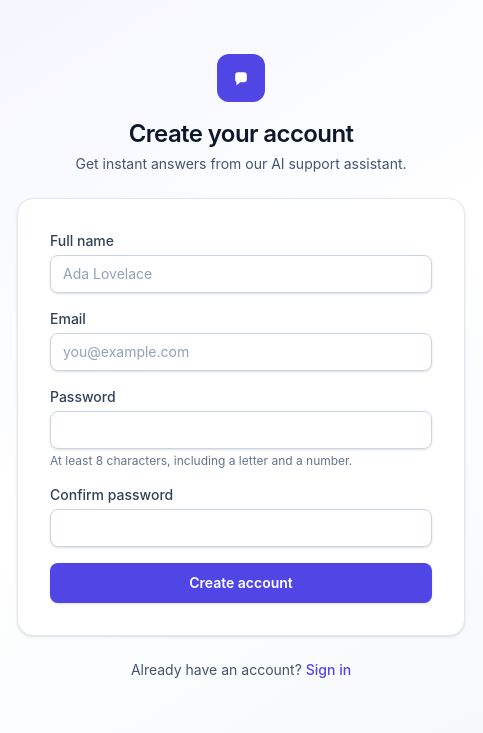
Test: Signup page › validates fields including password confirmation
In the field labelled "Full name": {"x": 241, "y": 274} [50,255,432,293], type "A"
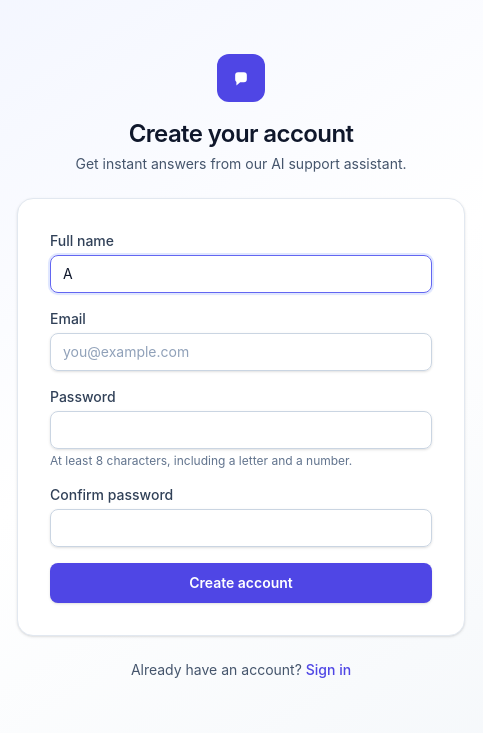
In the field labelled "Email": {"x": 241, "y": 352} [50,333,432,371], type "bad"
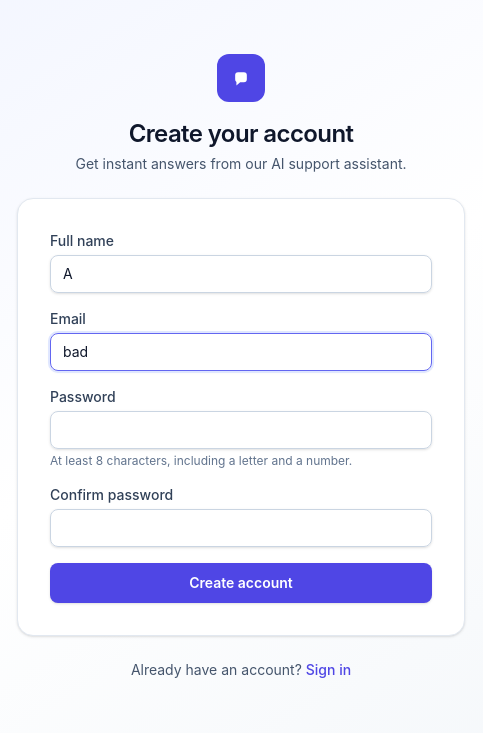
In the password field labelled "Password": {"x": 241, "y": 430} [50,411,432,449], type "short"
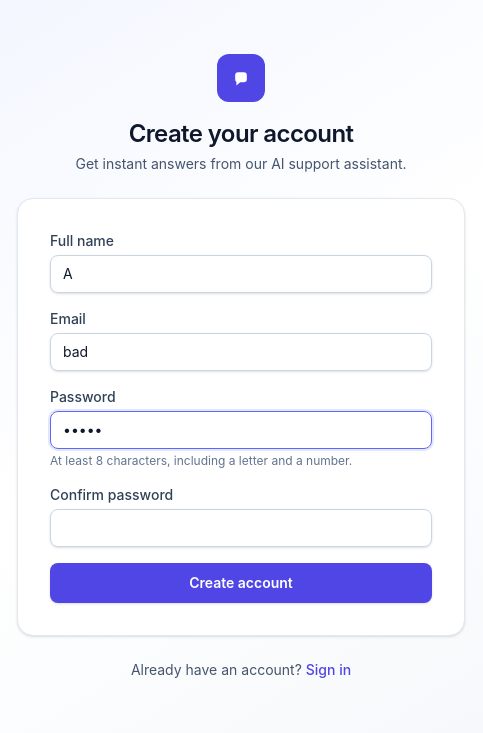
In the password field labelled "Confirm password": {"x": 241, "y": 528} [50,509,432,547], type "other"
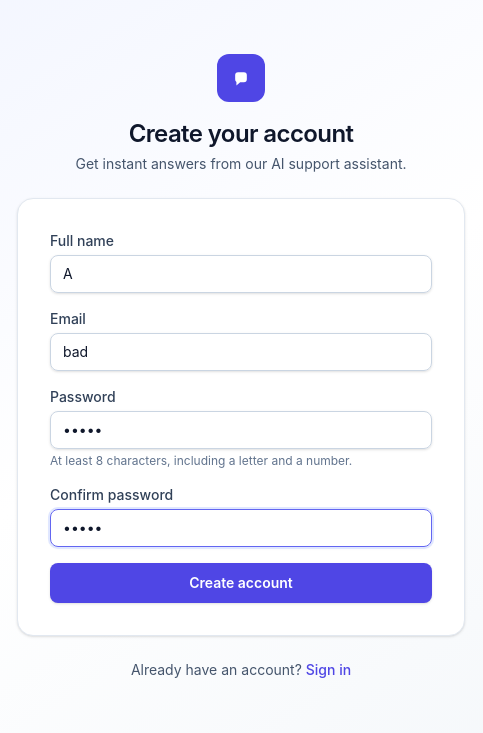
Click the button "Create account": {"x": 241, "y": 583} [50,563,432,603]
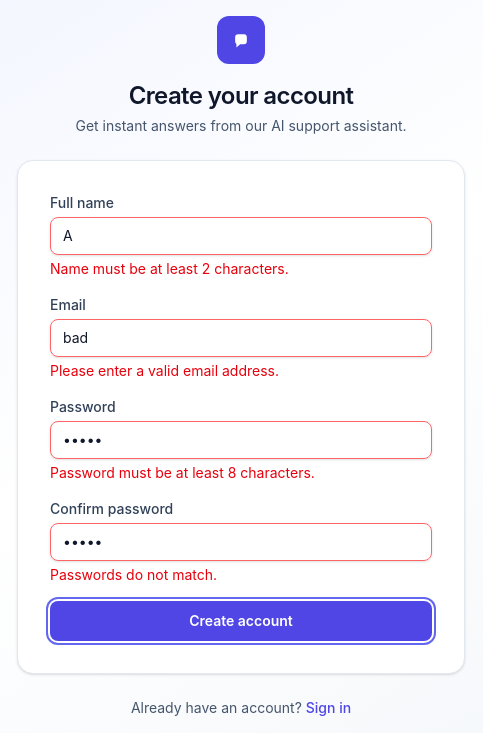
Check: the text "Name must be at least 2 characters." is shown, box [50,260,289,277]
Check: the text "Please enter a valid email address." is shown, box [50,362,279,379]
Check: the text "Password must be at least 8 characters." is shown, box [50,464,315,481]
